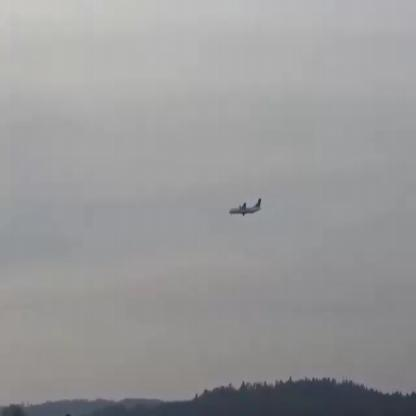CIV_Plane: (229, 196, 262, 216)
